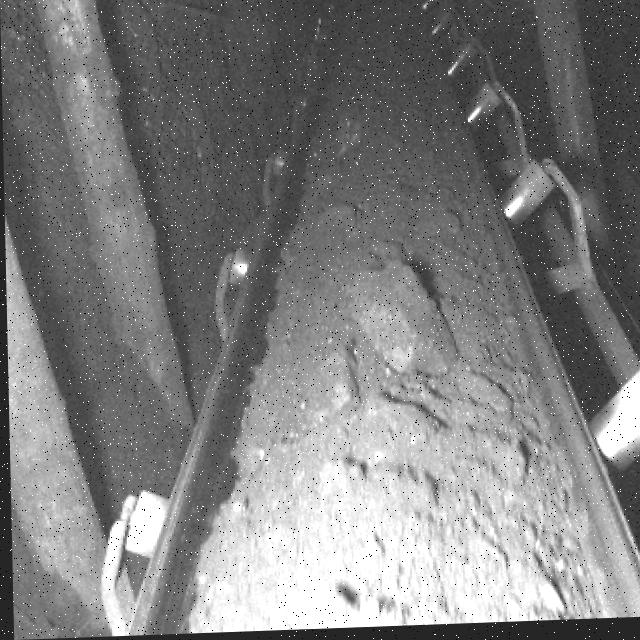large_sized_coal: (344, 267, 451, 374), (315, 349, 360, 417)
